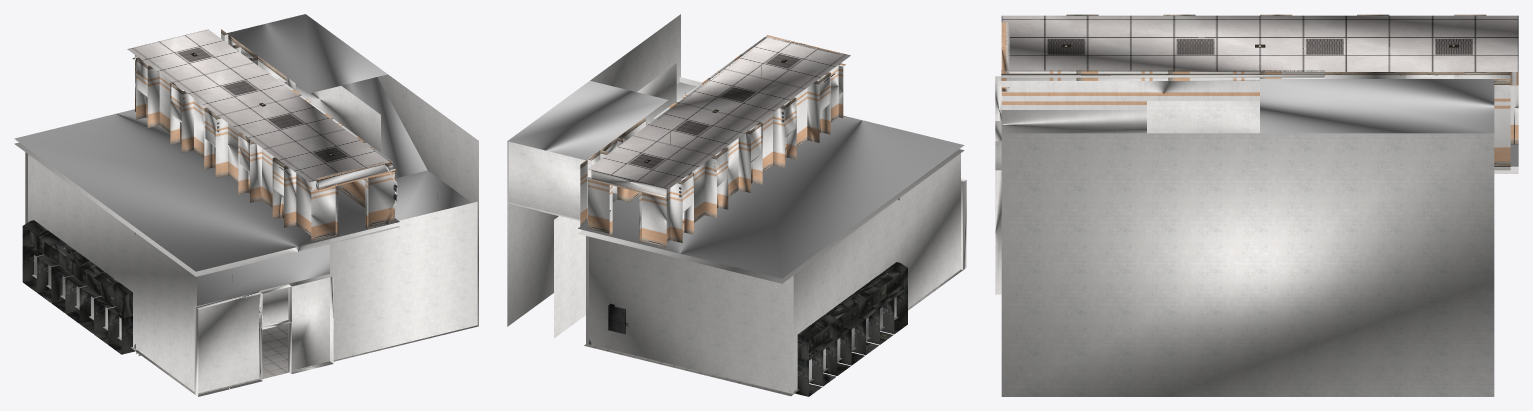
The model's file is room2servers2_opt.obj.
3 renders of one model, left to right at view 1: azimuth 30°, elevation 25°; view 2: azimuth 150°, elevation 25°; view 3: azimuth 270°, elevation 25°, orthographic. The views are drawn at different scales.
Bounding box in the file's own units: 94.88 × 63.24 × 104.
